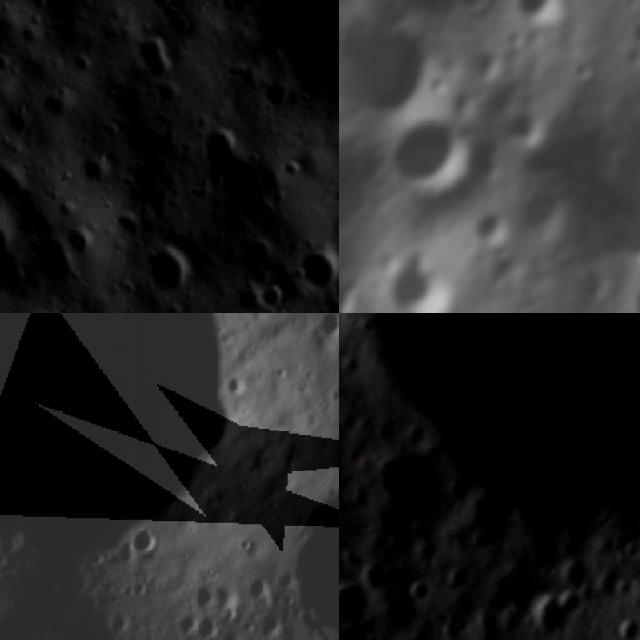crater: (507, 112, 640, 288), (191, 0, 339, 146), (339, 3, 456, 137), (186, 105, 297, 233), (370, 104, 488, 211), (339, 134, 404, 266), (376, 248, 472, 313), (118, 19, 182, 91), (139, 239, 200, 303), (456, 136, 514, 190), (293, 238, 339, 302), (483, 67, 532, 125), (504, 102, 556, 154), (522, 592, 580, 638), (511, 0, 578, 39), (70, 148, 119, 199), (34, 80, 82, 129), (471, 203, 522, 246), (571, 258, 616, 303), (126, 517, 163, 569), (612, 208, 640, 275), (339, 583, 376, 630), (466, 44, 506, 84), (249, 276, 292, 313), (447, 0, 504, 26), (339, 273, 375, 313), (57, 220, 95, 256), (13, 13, 47, 51), (69, 47, 100, 83), (568, 56, 601, 88), (615, 273, 640, 313), (144, 0, 187, 18), (614, 616, 640, 640)
